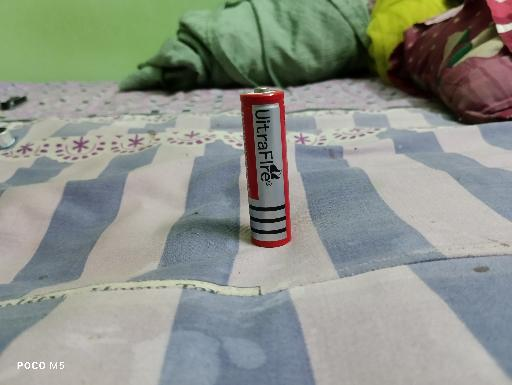Battery: (240, 86, 292, 248)
